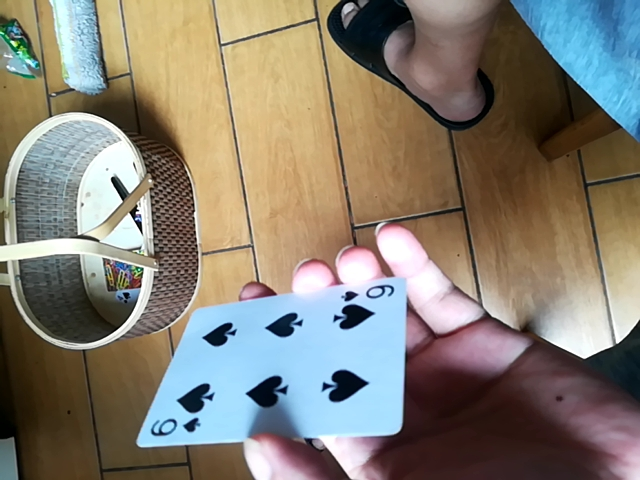ht 6: (142, 243, 416, 448)
